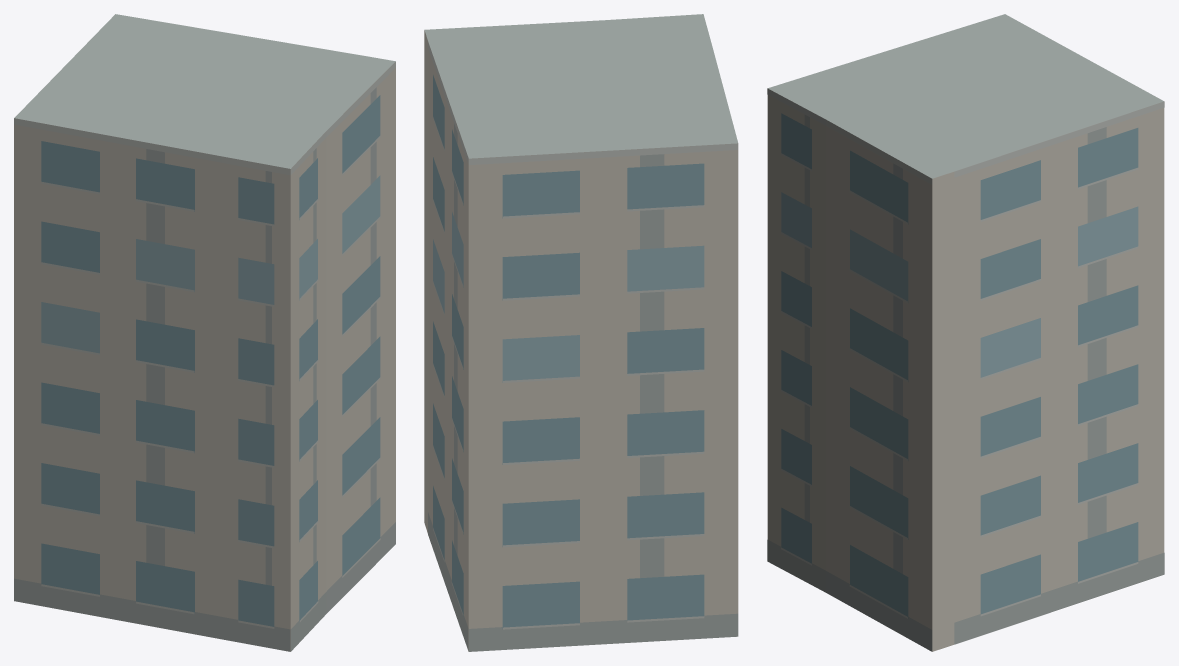
The model's file is survey-upis-32830225.glb.
The picture shows the model from 3 angles, left to right: view 1: azimuth 30°, elevation 25°; view 2: azimuth 150°, elevation 25°; view 3: azimuth 270°, elevation 25°; orthographic projection. The views are drawn at different scales.
Parts seen in each view (by area): view 1: survey-upis-32830225.tmp; view 2: survey-upis-32830225.tmp; view 3: survey-upis-32830225.tmp.
Boxes of the visible parts, <box> form: survey-upis-32830225.tmp: <box>14,14,395,651</box>; survey-upis-32830225.tmp: <box>424,14,738,651</box>; survey-upis-32830225.tmp: <box>767,14,1164,651</box>.
Bounding box in the file's own units: 13.67 × 18.3 × 13.92.
